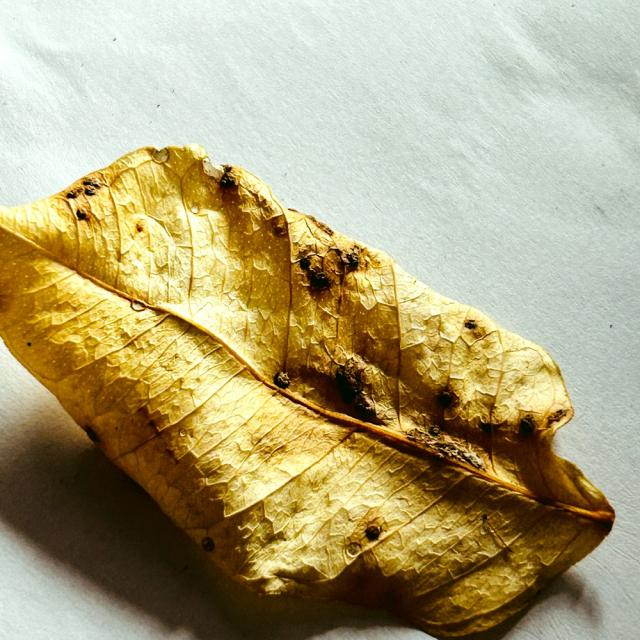DryLeaf_Lemon: (0, 146, 614, 636)
